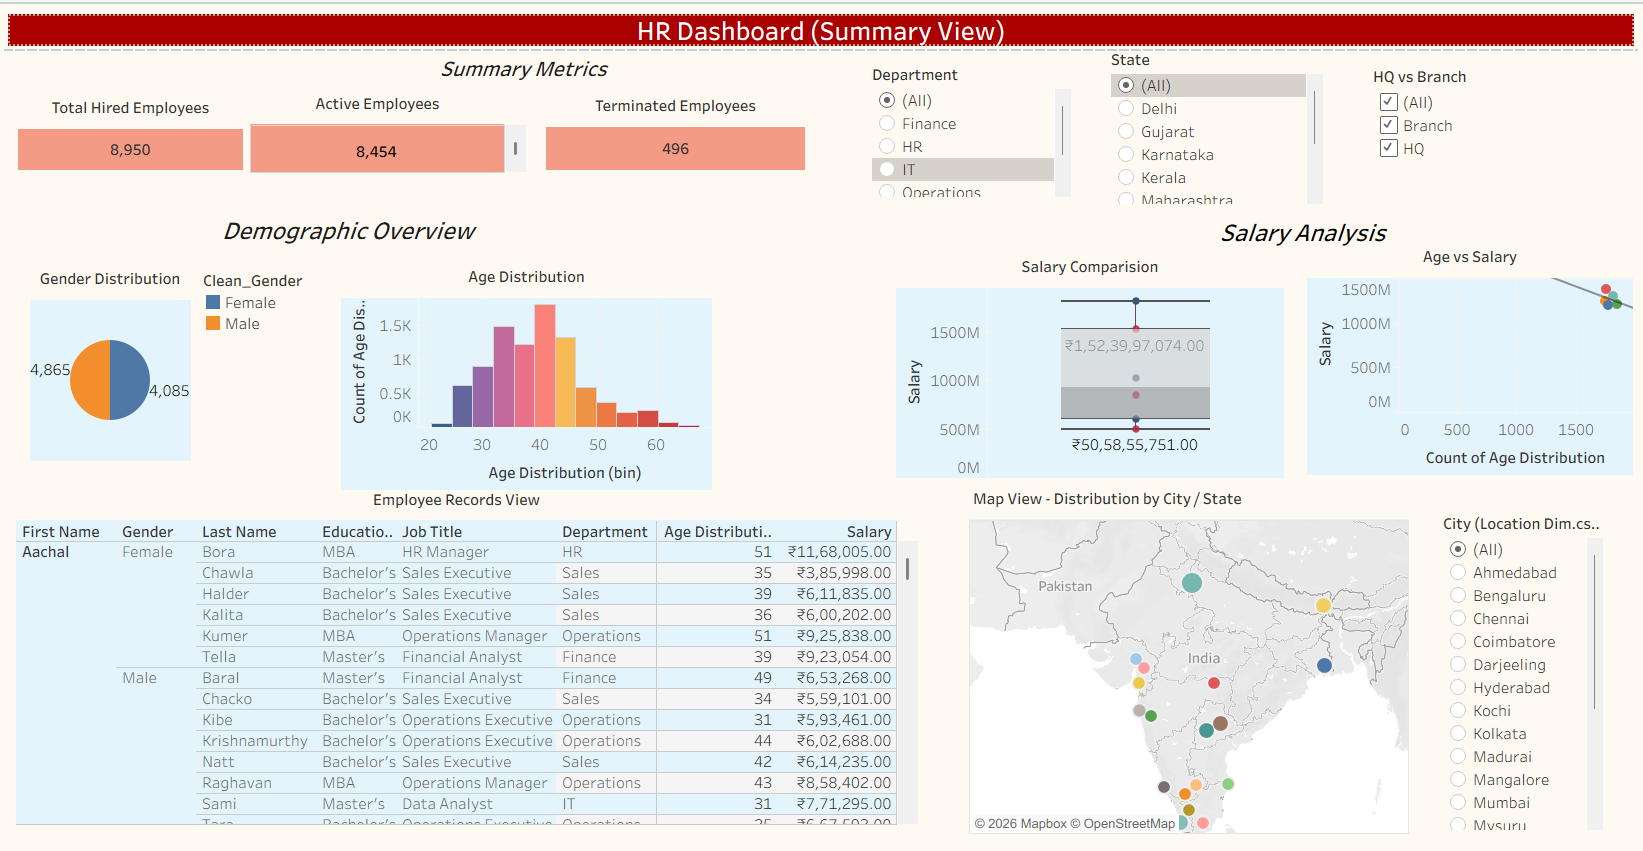

This screenshot's page, from the dashboard's own definition file:
{"tool":"tableau","page":{"name":"HR Dashboard","canvas":[1000,1000],"units":"permille","ordinal":1},"visuals":[{"type":"title","box":[4.9,8.3,990.2,41.7]},{"type":"filter","title":"Employee Records View","param":"[federated.1a7s9ks0zl6jkw19umaup15d6qiy].[none:State:nk]","box":[675.8,49,128.6,161.5]},{"type":"text","box":[24.1,53.1,592.4,32.3]},{"type":"filter","title":"Employee Records View","param":"[federated.1a7s9ks0zl6jkw19umaup15d6qiy].[none:Department:nk]","box":[530.8,64.6,120.7,138.5]},{"type":"filter","title":"Map View","param":"[federated.1a7s9ks0zl6jkw19umaup15d6qiy].[cnt:Employee ID:qk]","box":[828.5,80.2,144.8,112.5]},{"type":"worksheet","title":"KPI1","mark":"Automatic","box":[153.8,90.6,201.4,87.5]},{"type":"worksheet","title":"KPI 3","mark":"Automatic","box":[333.1,92.7,157.2,82.3]},{"type":"worksheet","title":"KPI 2","mark":"Automatic","box":[13.1,94.8,136.6,80.2]},{"type":"text","box":[590.3,213.5,404.8,51]},{"type":"worksheet","title":"Age vs Salary","mark":"Circle","rows":["Salary"],"cols":["Calculation_1280390560337920"],"box":[794.6,250,197.4,242.7]},{"type":"worksheet","title":"Age Distribution","mark":"Automatic","rows":["Calculation_1280390560337920"],"cols":["Age Distribution (bin)"],"box":[252.1,256.2,224.8,237.5]},{"type":"worksheet","title":"Salary Comparision","mark":"Circle","rows":["Salary"],"box":[545.5,260.4,235.2,235.4]},{"type":"worksheet","title":"Gender Ratio ","mark":"Pie","box":[15.8,266.7,178.2,230.2]},{"type":"legend","title":"Salary Comparision","param":"[federated.1a7s9ks0zl6jkw19umaup15d6qiy].[none:Gender:nk]","box":[167.9,292.7,61.2,94.8]},{"type":"worksheet","title":"Map View","mark":"Automatic","box":[589.9,502.1,266.9,364.6]},{"type":"worksheet","title":"Employee Records View","mark":"Automatic","rows":["First Name","Gender","Last Name","Education Level","Job Title","Department"],"box":[12.1,503.1,587.9,354.2]},{"type":"filter","title":"Map View","param":"[federated.1a7s9ks0zl6jkw19umaup15d6qiy].[none:City (Location_Dim.csv):nk]","box":[877,532.3,97,330.2]}]}

Visuals, with their boxes on the dashboard's canvas, which has no fixed pixel size, in thousandths of its width and height (x1, y1, x2, y2). These are canvas units, not pixel positions in the 1643x851 screenshot, which may show the page scaled, cropped or inside an application window:
title: select_region(5, 8, 995, 50)
"Employee Records View" filter: select_region(676, 49, 804, 210)
text: select_region(24, 53, 616, 85)
"Employee Records View" filter: select_region(531, 65, 652, 203)
"Map View" filter: select_region(828, 80, 973, 193)
"KPI1" worksheet: select_region(154, 91, 355, 178)
"KPI 3" worksheet: select_region(333, 93, 490, 175)
"KPI 2" worksheet: select_region(13, 95, 150, 175)
text: select_region(590, 214, 995, 264)
"Age vs Salary" worksheet (Circle marks): select_region(795, 250, 992, 493)
"Age Distribution" worksheet: select_region(252, 256, 477, 494)
"Salary Comparision" worksheet (Circle marks): select_region(546, 260, 781, 496)
"Gender Ratio " worksheet (Pie marks): select_region(16, 267, 194, 497)
"Salary Comparision" legend: select_region(168, 293, 229, 388)
"Map View" worksheet: select_region(590, 502, 857, 867)
"Employee Records View" worksheet: select_region(12, 503, 600, 857)
"Map View" filter: select_region(877, 532, 974, 862)
